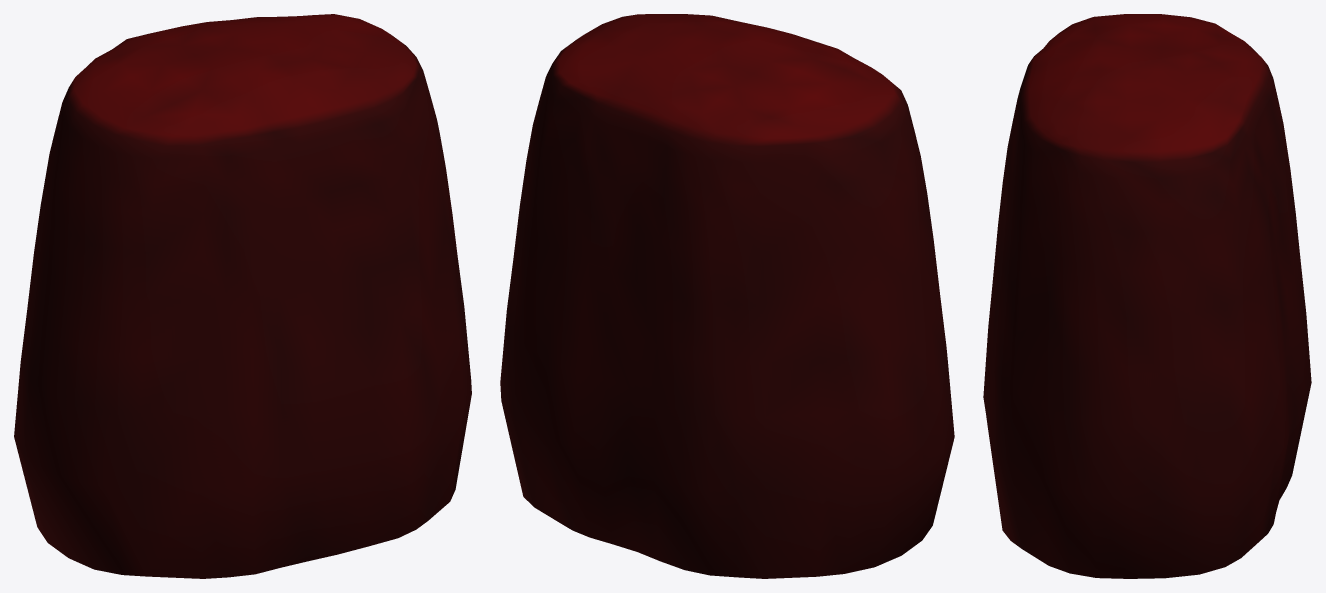
The model's file is geology-landforms-greenhillhuge_v1.fbx.
3 renders of one model, left to right at view 1: azimuth 30°, elevation 25°; view 2: azimuth 150°, elevation 25°; view 3: azimuth 270°, elevation 25°, orthographic. The views are drawn at different scales.
Visible parts, largest first — view 1: GreenHillHuge_v1; view 2: GreenHillHuge_v1; view 3: GreenHillHuge_v1.
Boxes of the visible parts, x1,y1,x2,y2 form: GreenHillHuge_v1: [14, 14, 471, 578]; GreenHillHuge_v1: [500, 14, 954, 578]; GreenHillHuge_v1: [983, 14, 1311, 578].
Size of the model in its own units: 22.43 by 23.23 by 16.07.
